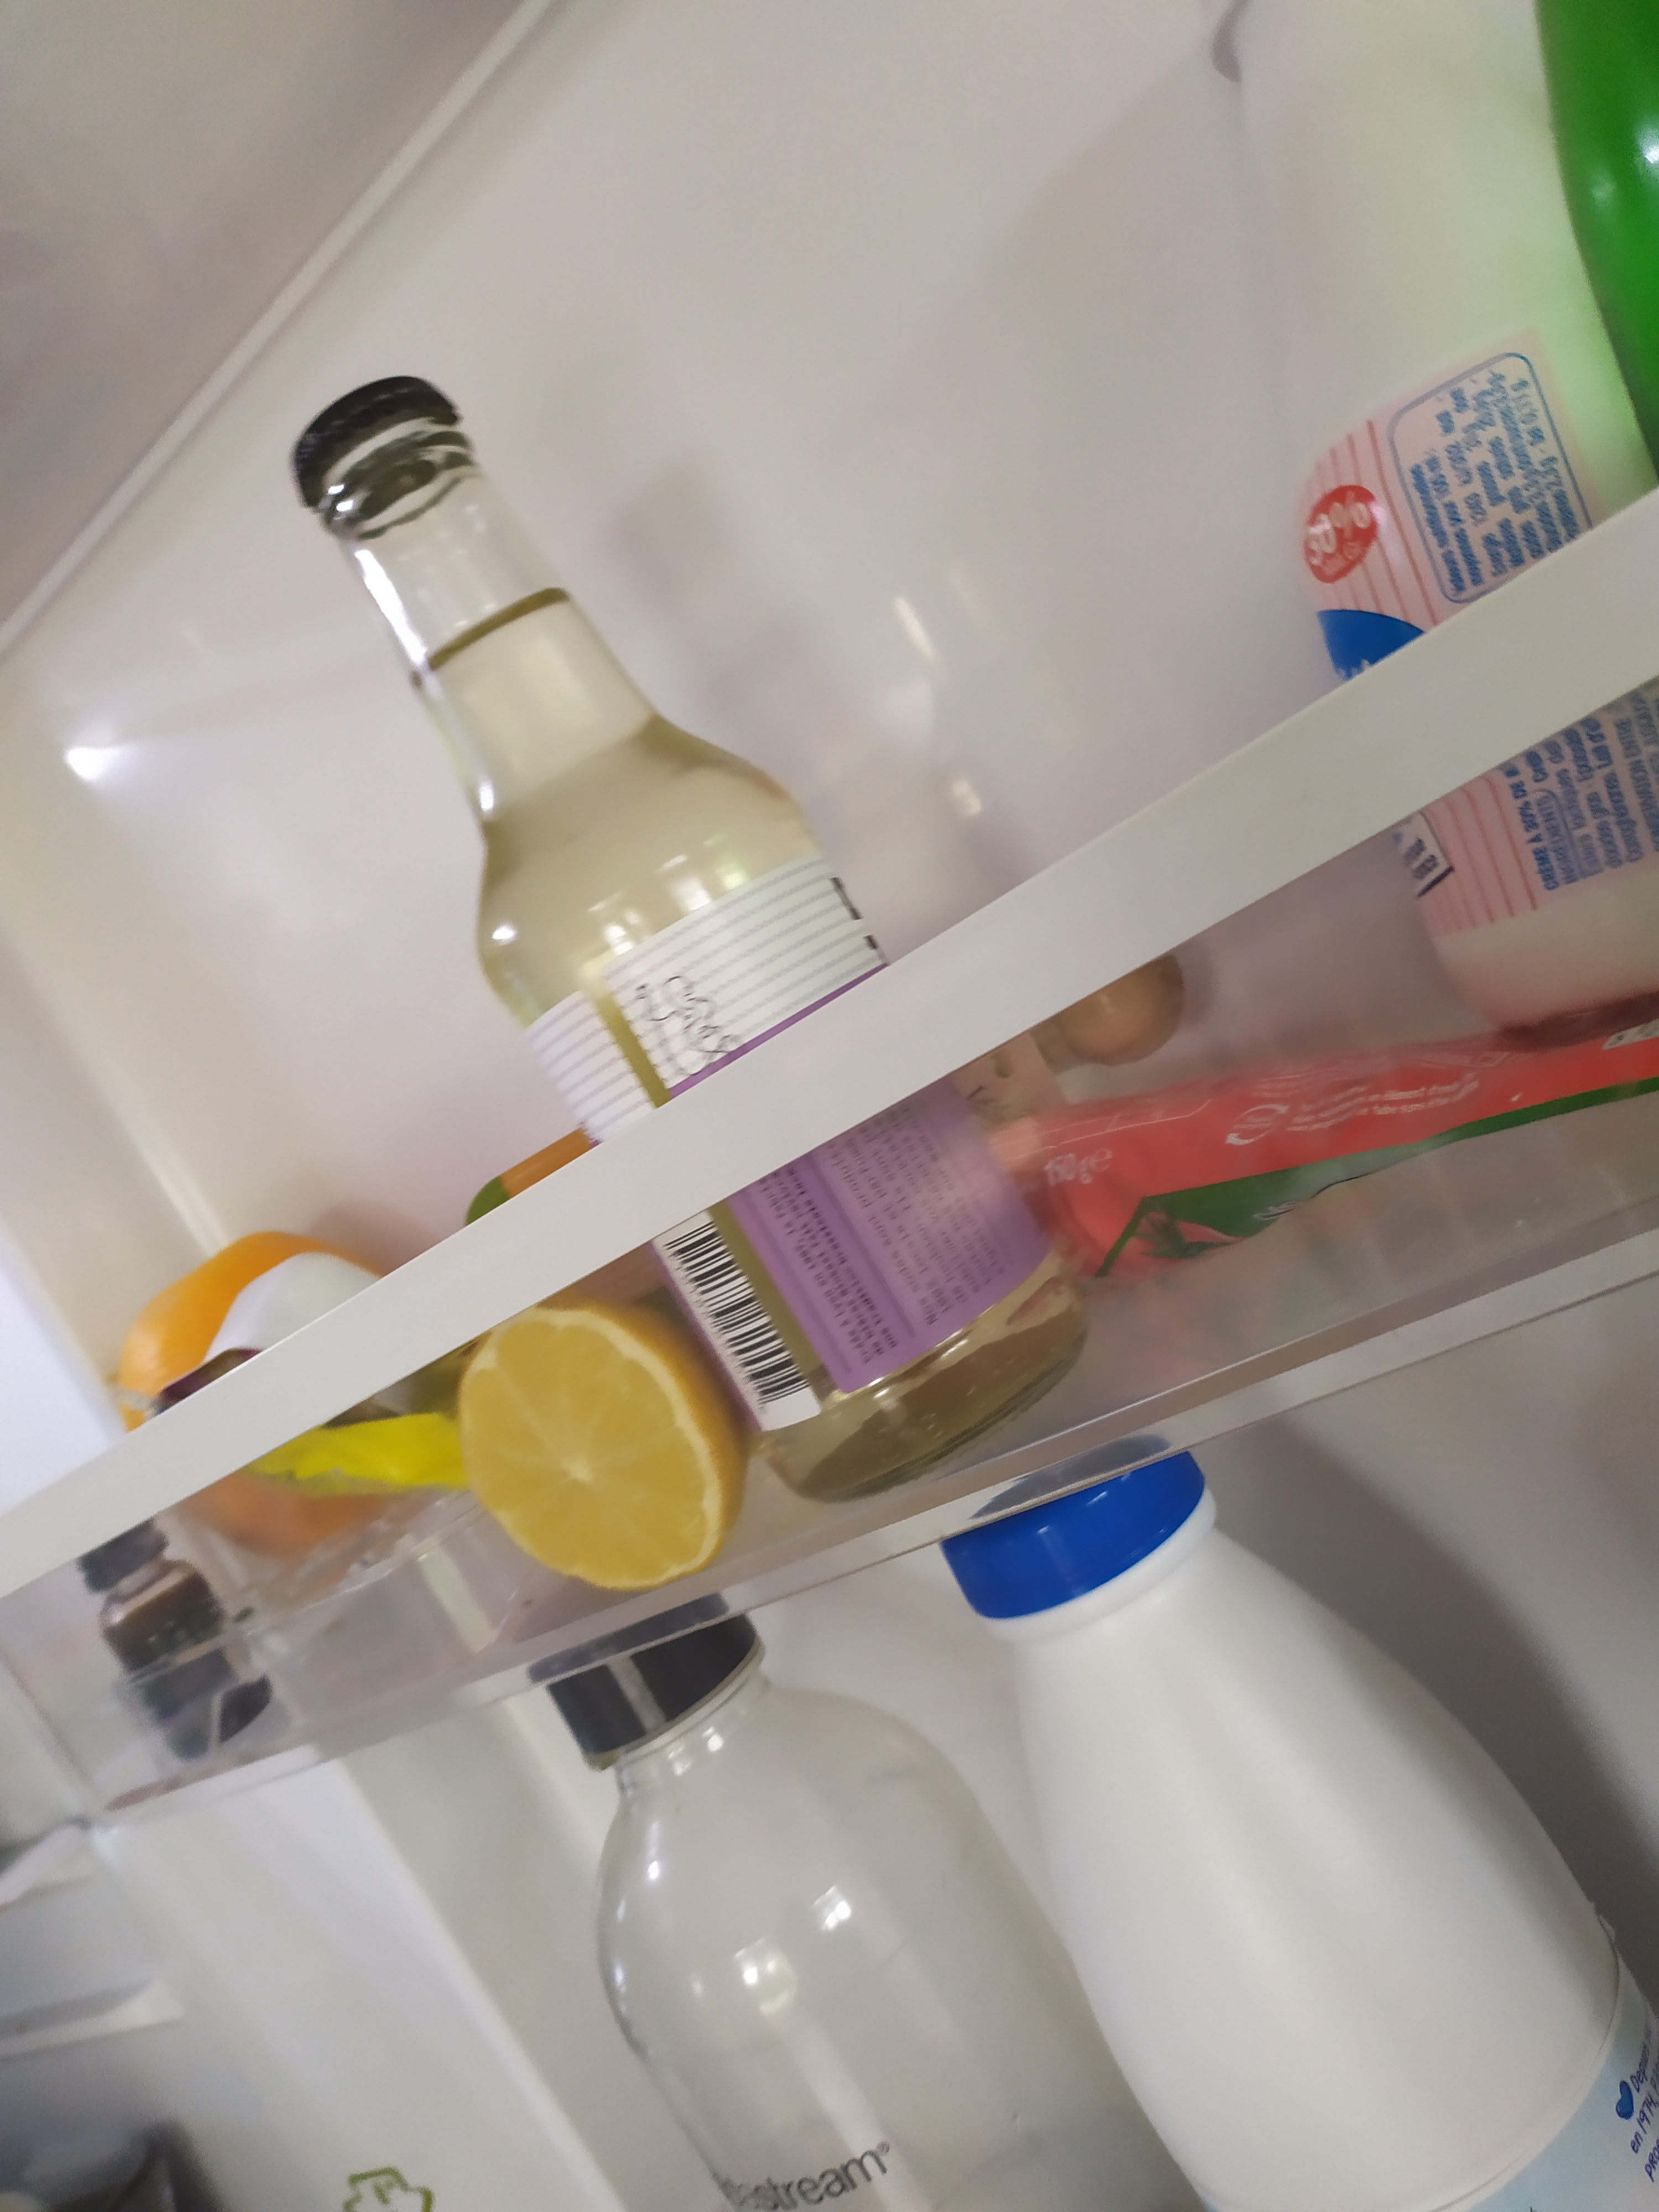bottle: (291, 371, 1091, 1514), (948, 1433, 1659, 2212), (1190, 0, 1659, 1028), (540, 1594, 1192, 2212)
lemon: (457, 1299, 742, 1580)
